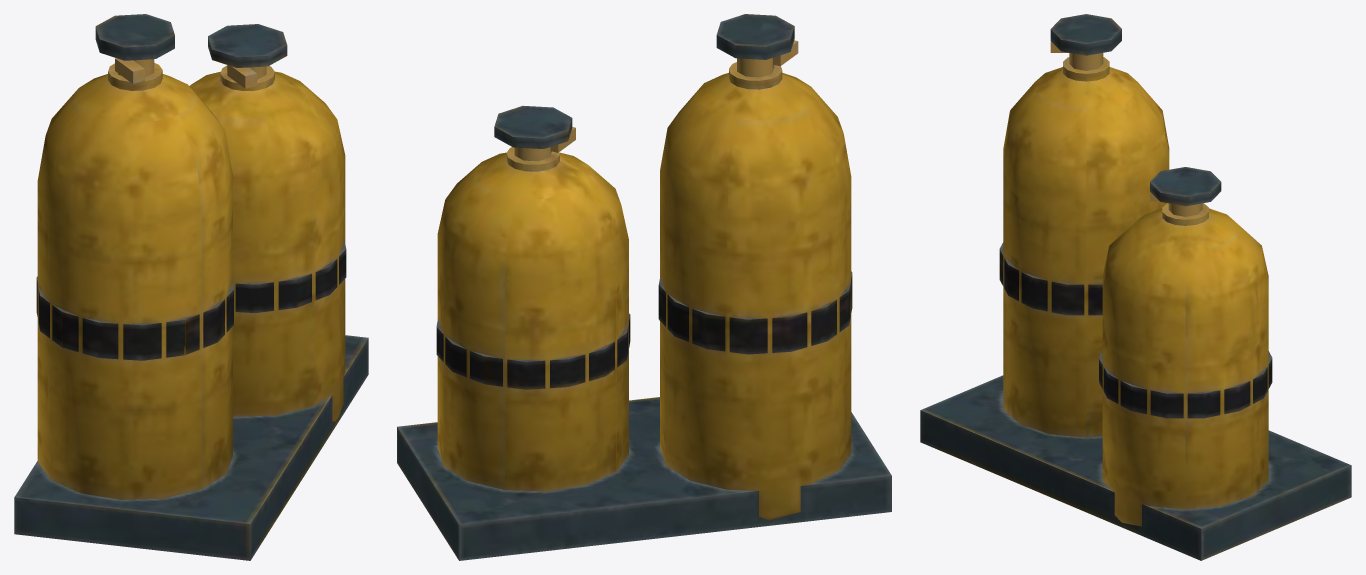
File: ammonia.glb
The picture shows the model from 3 angles, left to right: view 1: azimuth 30°, elevation 25°; view 2: azimuth 150°, elevation 25°; view 3: azimuth 270°, elevation 25°; orthographic projection. The views are drawn at different scales.
Visible parts, largest first — view 1: te_res_ammonia; view 2: te_res_ammonia; view 3: te_res_ammonia.
Part boxes in pixels (left/top/right/bottom): te_res_ammonia: left=14, top=14, right=368, bottom=560; te_res_ammonia: left=397, top=14, right=891, bottom=560; te_res_ammonia: left=920, top=14, right=1351, bottom=560.
Size of the model in its own units: 0.6081 by 0.63 by 0.6081.
1 material, 1 textured.
